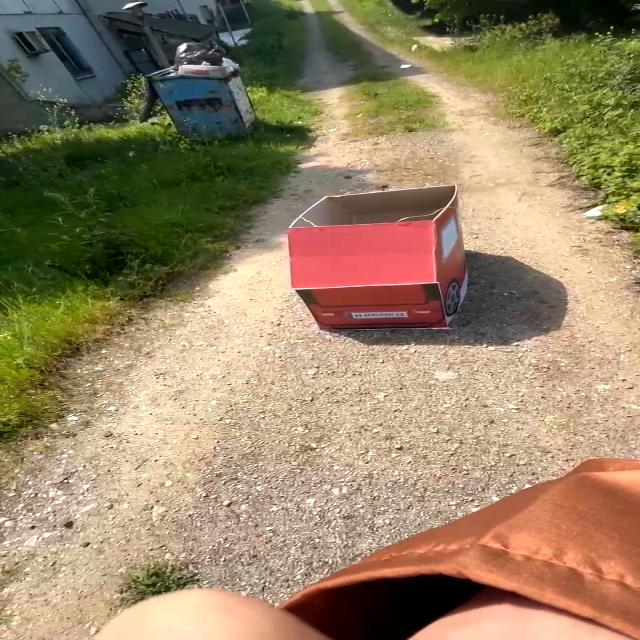red_car: (256, 180, 507, 350)
